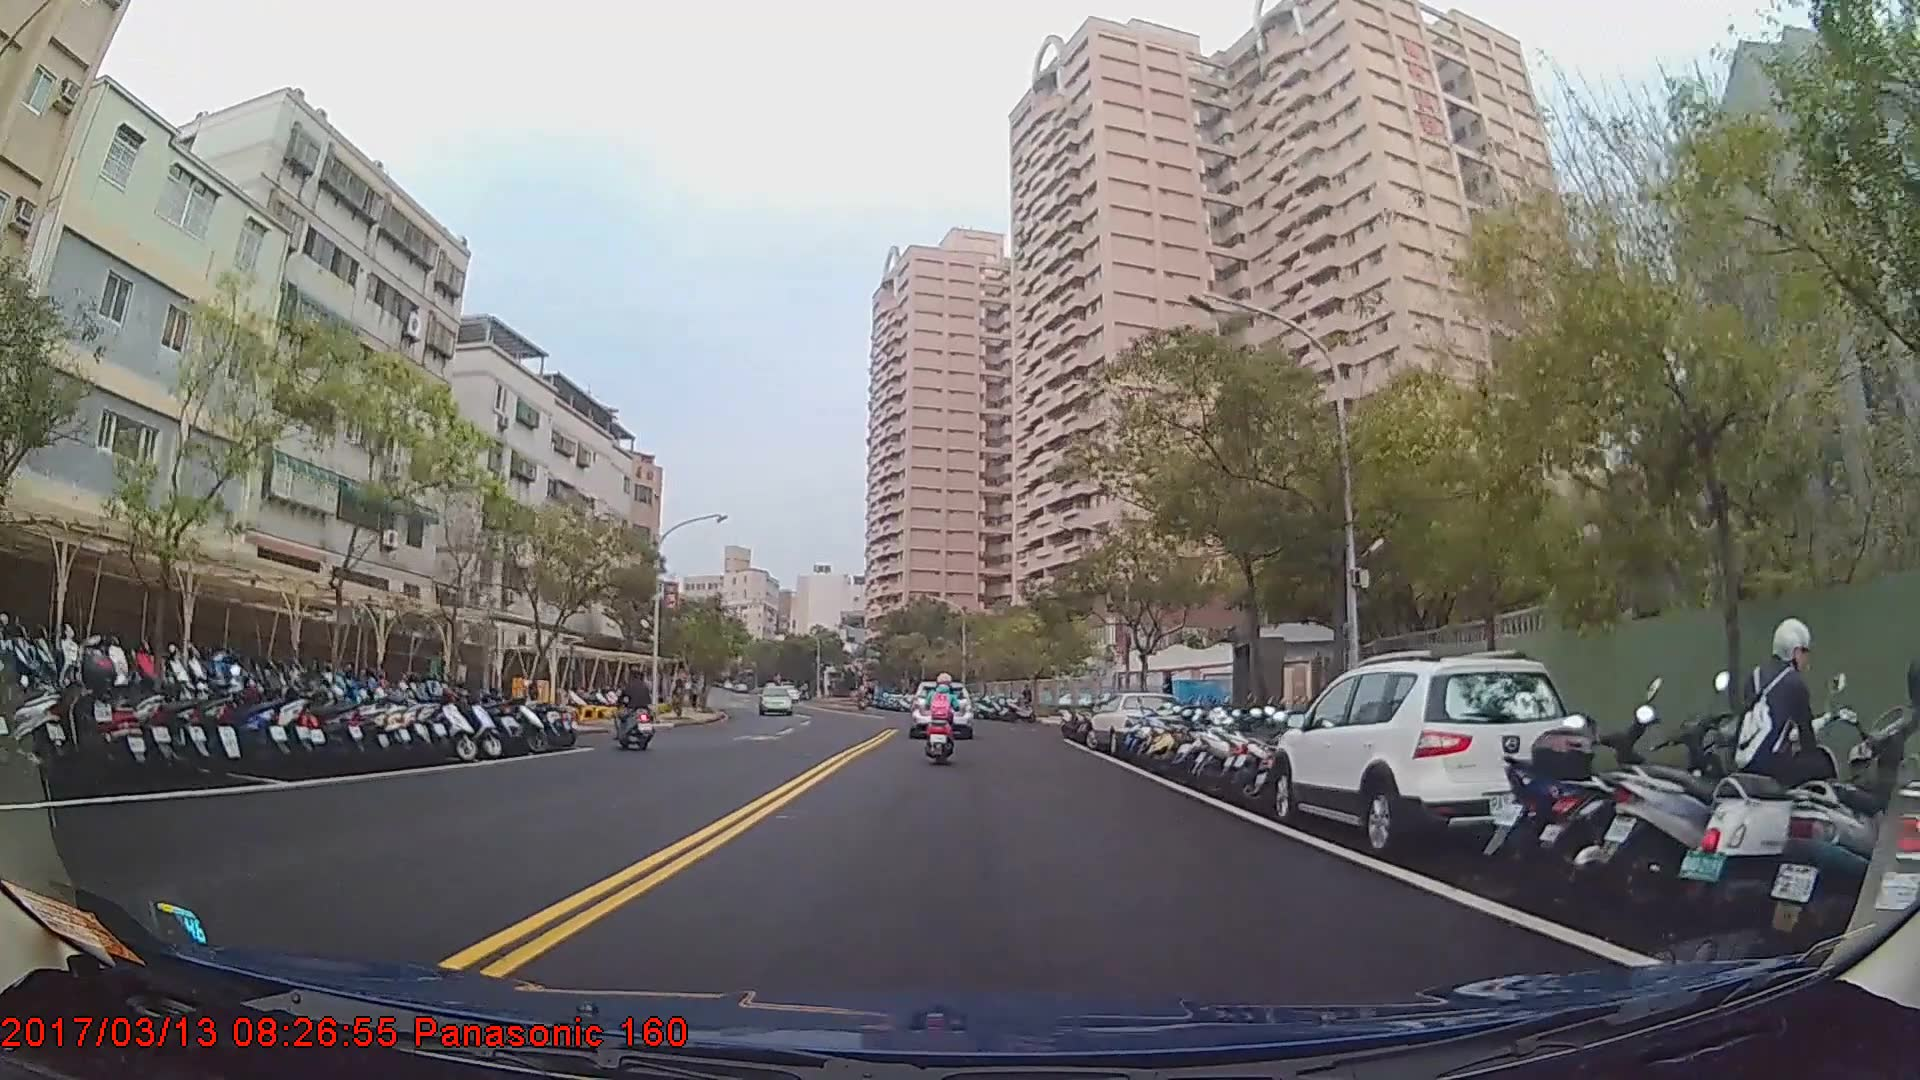rider: (924, 670, 964, 768), (615, 664, 651, 753)
vehicle: (1269, 651, 1584, 854), (1085, 689, 1181, 758), (906, 678, 971, 735), (755, 682, 794, 712)
